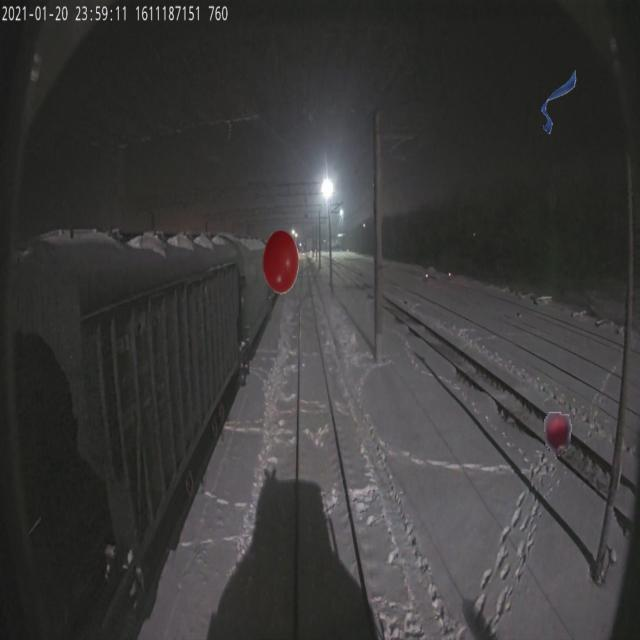balloon: (537, 406, 576, 471), (262, 230, 299, 294)
floating object: (541, 70, 576, 134)
